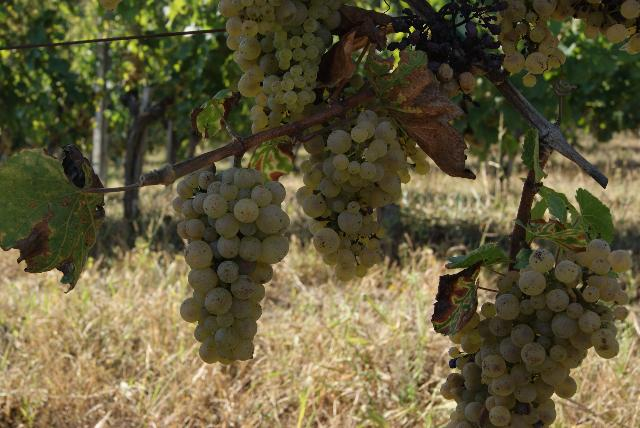grapes: (440, 236, 632, 428), (174, 165, 290, 365), (296, 108, 430, 281), (218, 0, 341, 121), (498, 0, 565, 88)
